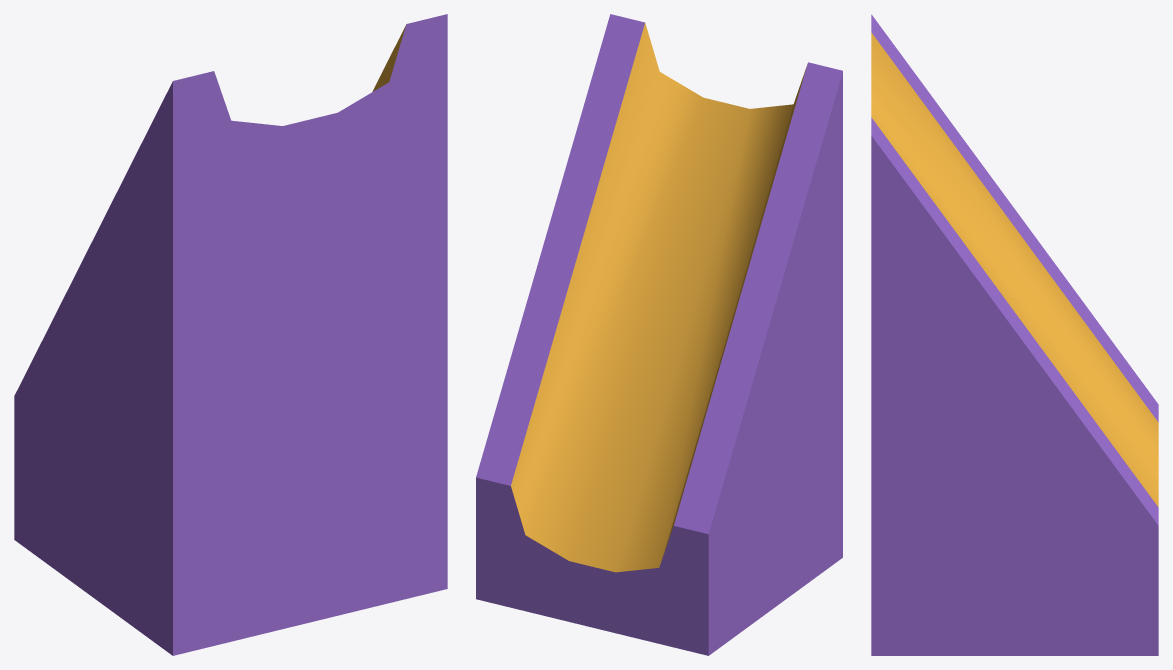
Rendered from slant-solid-d.glb.
3 views of the same model, side by side, from view 1: azimuth 30°, elevation 25°; view 2: azimuth 150°, elevation 25°; view 3: azimuth 270°, elevation 25° (orthographic). The views are drawn at different scales.
Parts seen in each view (by area): view 1: slant-solid-d; view 2: slant-solid-d; view 3: slant-solid-d.
Boxes of the visible parts, <box> form: slant-solid-d: <box>14,14,447,655</box>; slant-solid-d: <box>476,14,842,655</box>; slant-solid-d: <box>871,14,1158,655</box>.
Size of the model in its own units: 1 by 2 by 1.
1 material, 1 textured.
